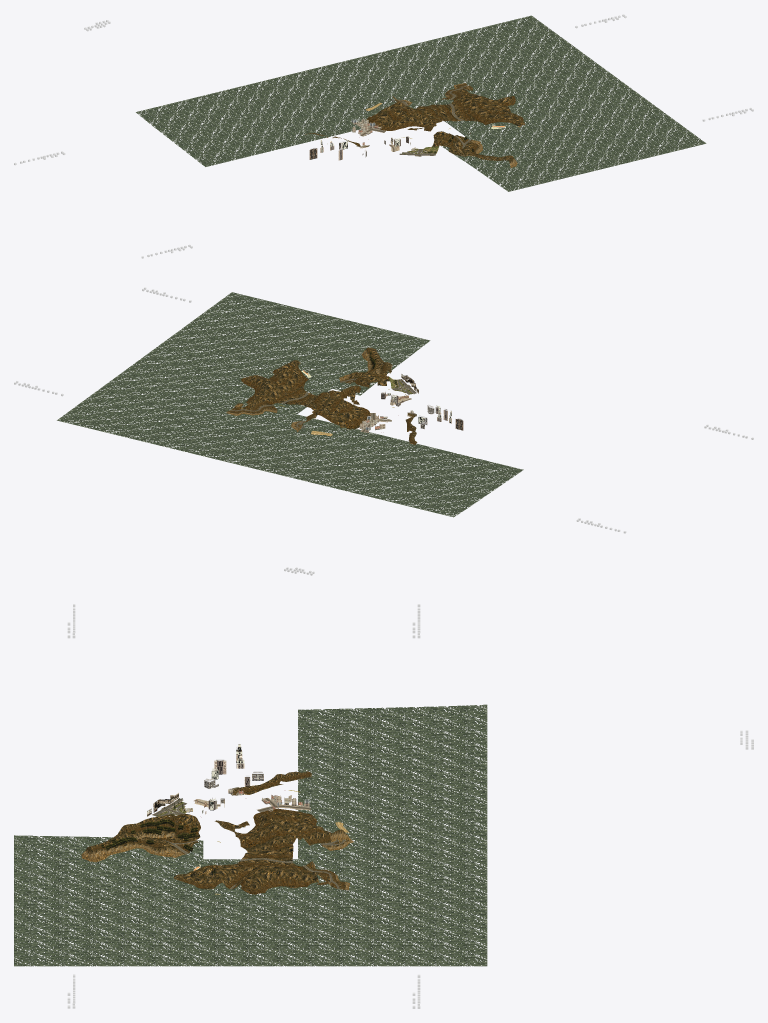
The model's file is track-B2_C4_V2_env.glb.
3 renders of one model, top to bottom at view 1: azimuth 30°, elevation 25°; view 2: azimuth 150°, elevation 25°; view 3: azimuth 270°, elevation 25°, orthographic. The views are drawn at different scales.
Parts seen in each view (by area): view 1: B2_C4_V2_env; view 2: B2_C4_V2_env; view 3: B2_C4_V2_env.
Boxes of the visible parts, x1,y1,x2,y2 form: B2_C4_V2_env: (14,14,753,258); B2_C4_V2_env: (14,287,753,575); B2_C4_V2_env: (14,604,753,1008).
Size of the model in its own units: 7593 by 244 by 5898.
11 materials, 10 textured.
